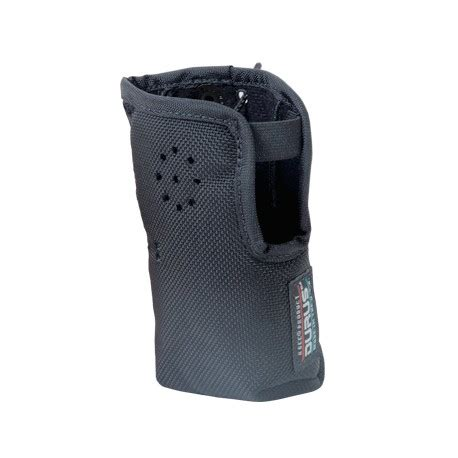nylon: (121, 64, 325, 403)
